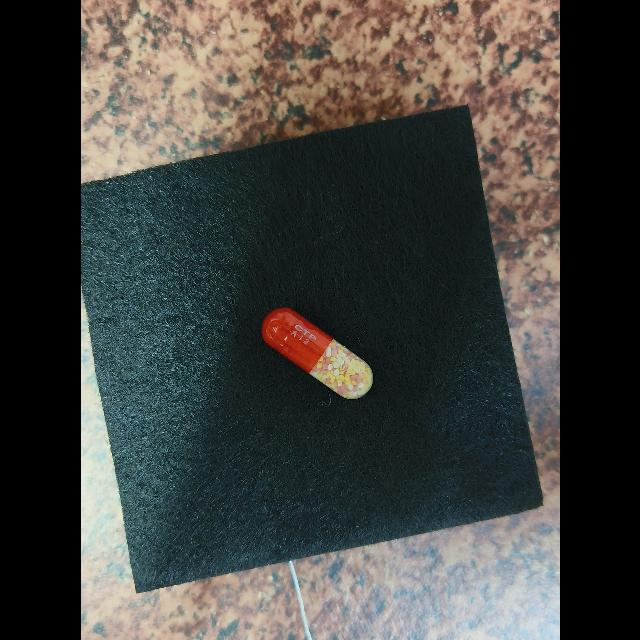Intact Capsule: (261, 308, 373, 399)
